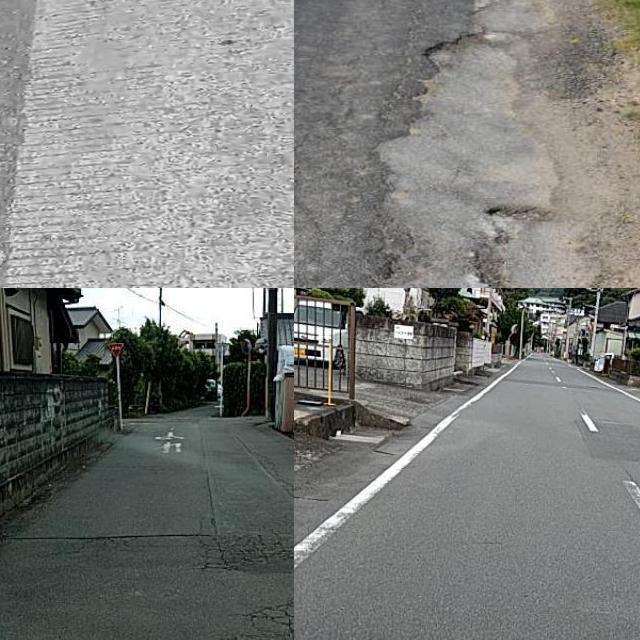Melintang: (0, 524, 214, 547)
Pinggir: (328, 12, 605, 288)
Retak Buaya: (245, 603, 294, 640)
Sambungan: (1, 0, 294, 288), (577, 421, 640, 463)
